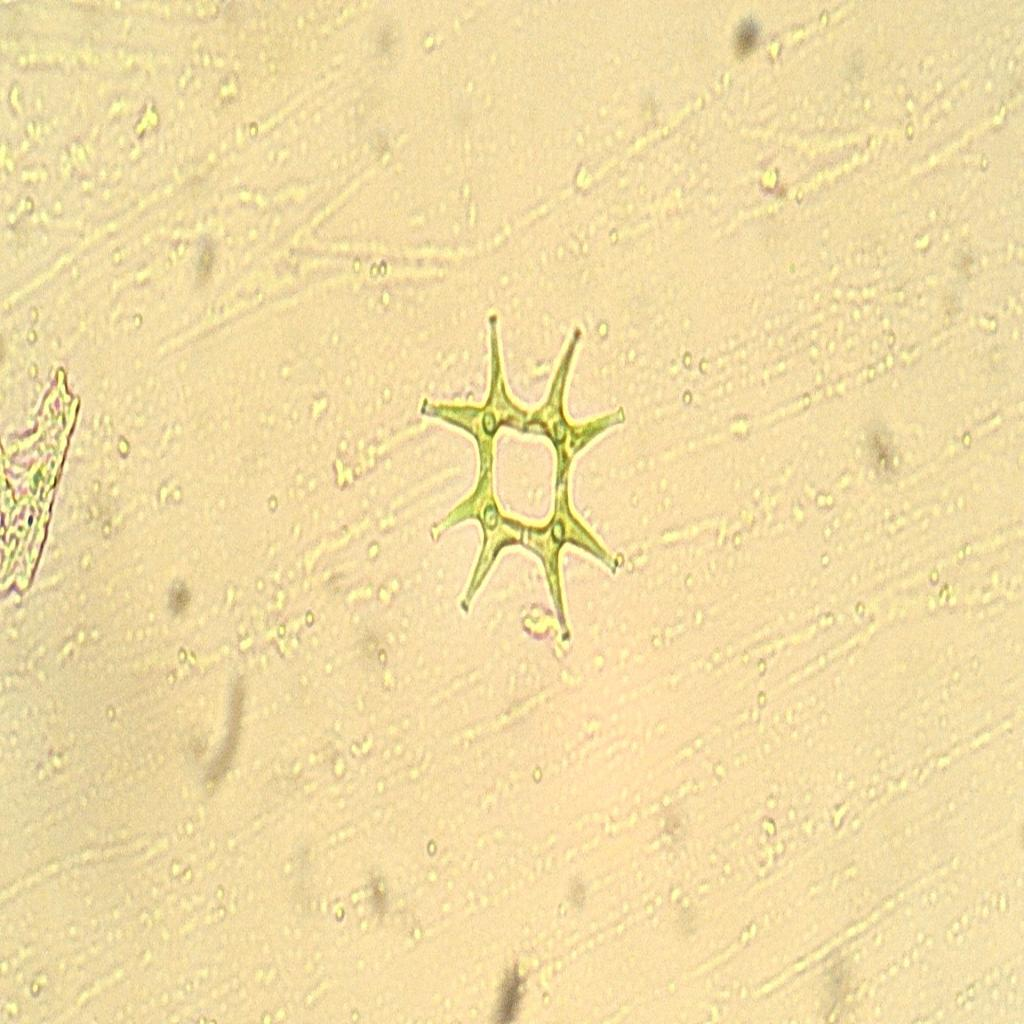Pediastrum_CO: (414, 283, 637, 672)
